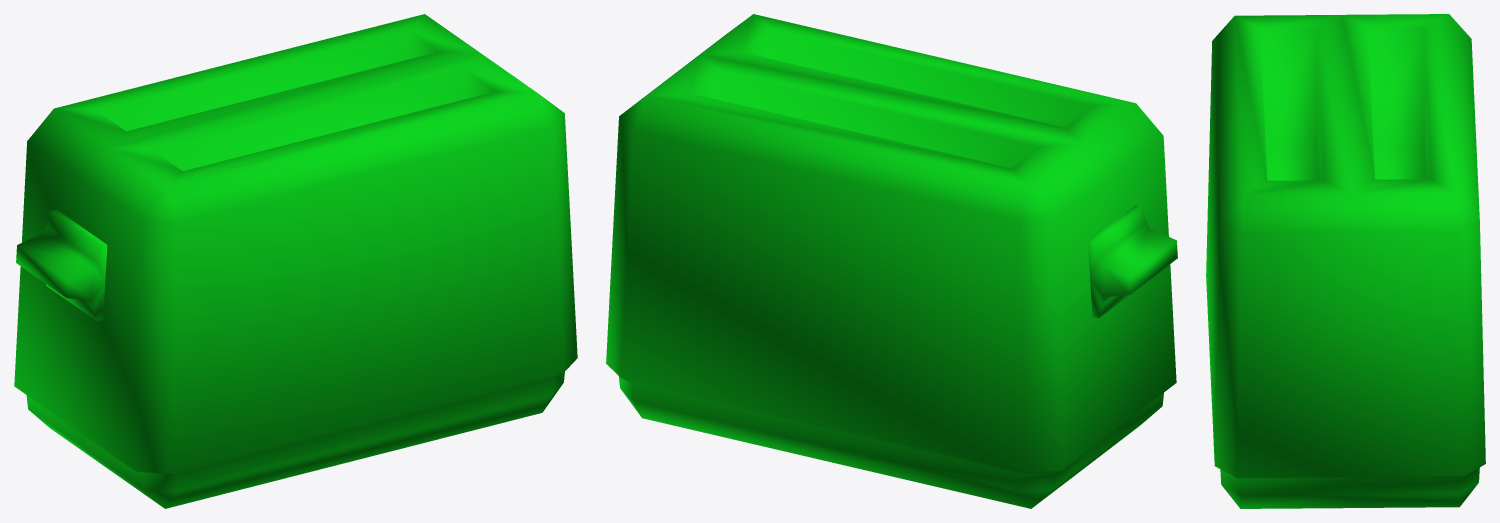
The model's file is toaster.fbx.
3 views of the same model, side by side, from view 1: azimuth 30°, elevation 25°; view 2: azimuth 150°, elevation 25°; view 3: azimuth 270°, elevation 25° (orthographic). The views are drawn at different scales.
Parts seen in each view (by area): view 1: Items.005; view 2: Items.005; view 3: Items.005.
Boxes of the visible parts, x1,y1,x2,y2 form: Items.005: [14, 14, 577, 508]; Items.005: [606, 14, 1177, 508]; Items.005: [1206, 14, 1485, 508].
Bounding box in the file's own units: 43 × 27.1 × 21.98.
